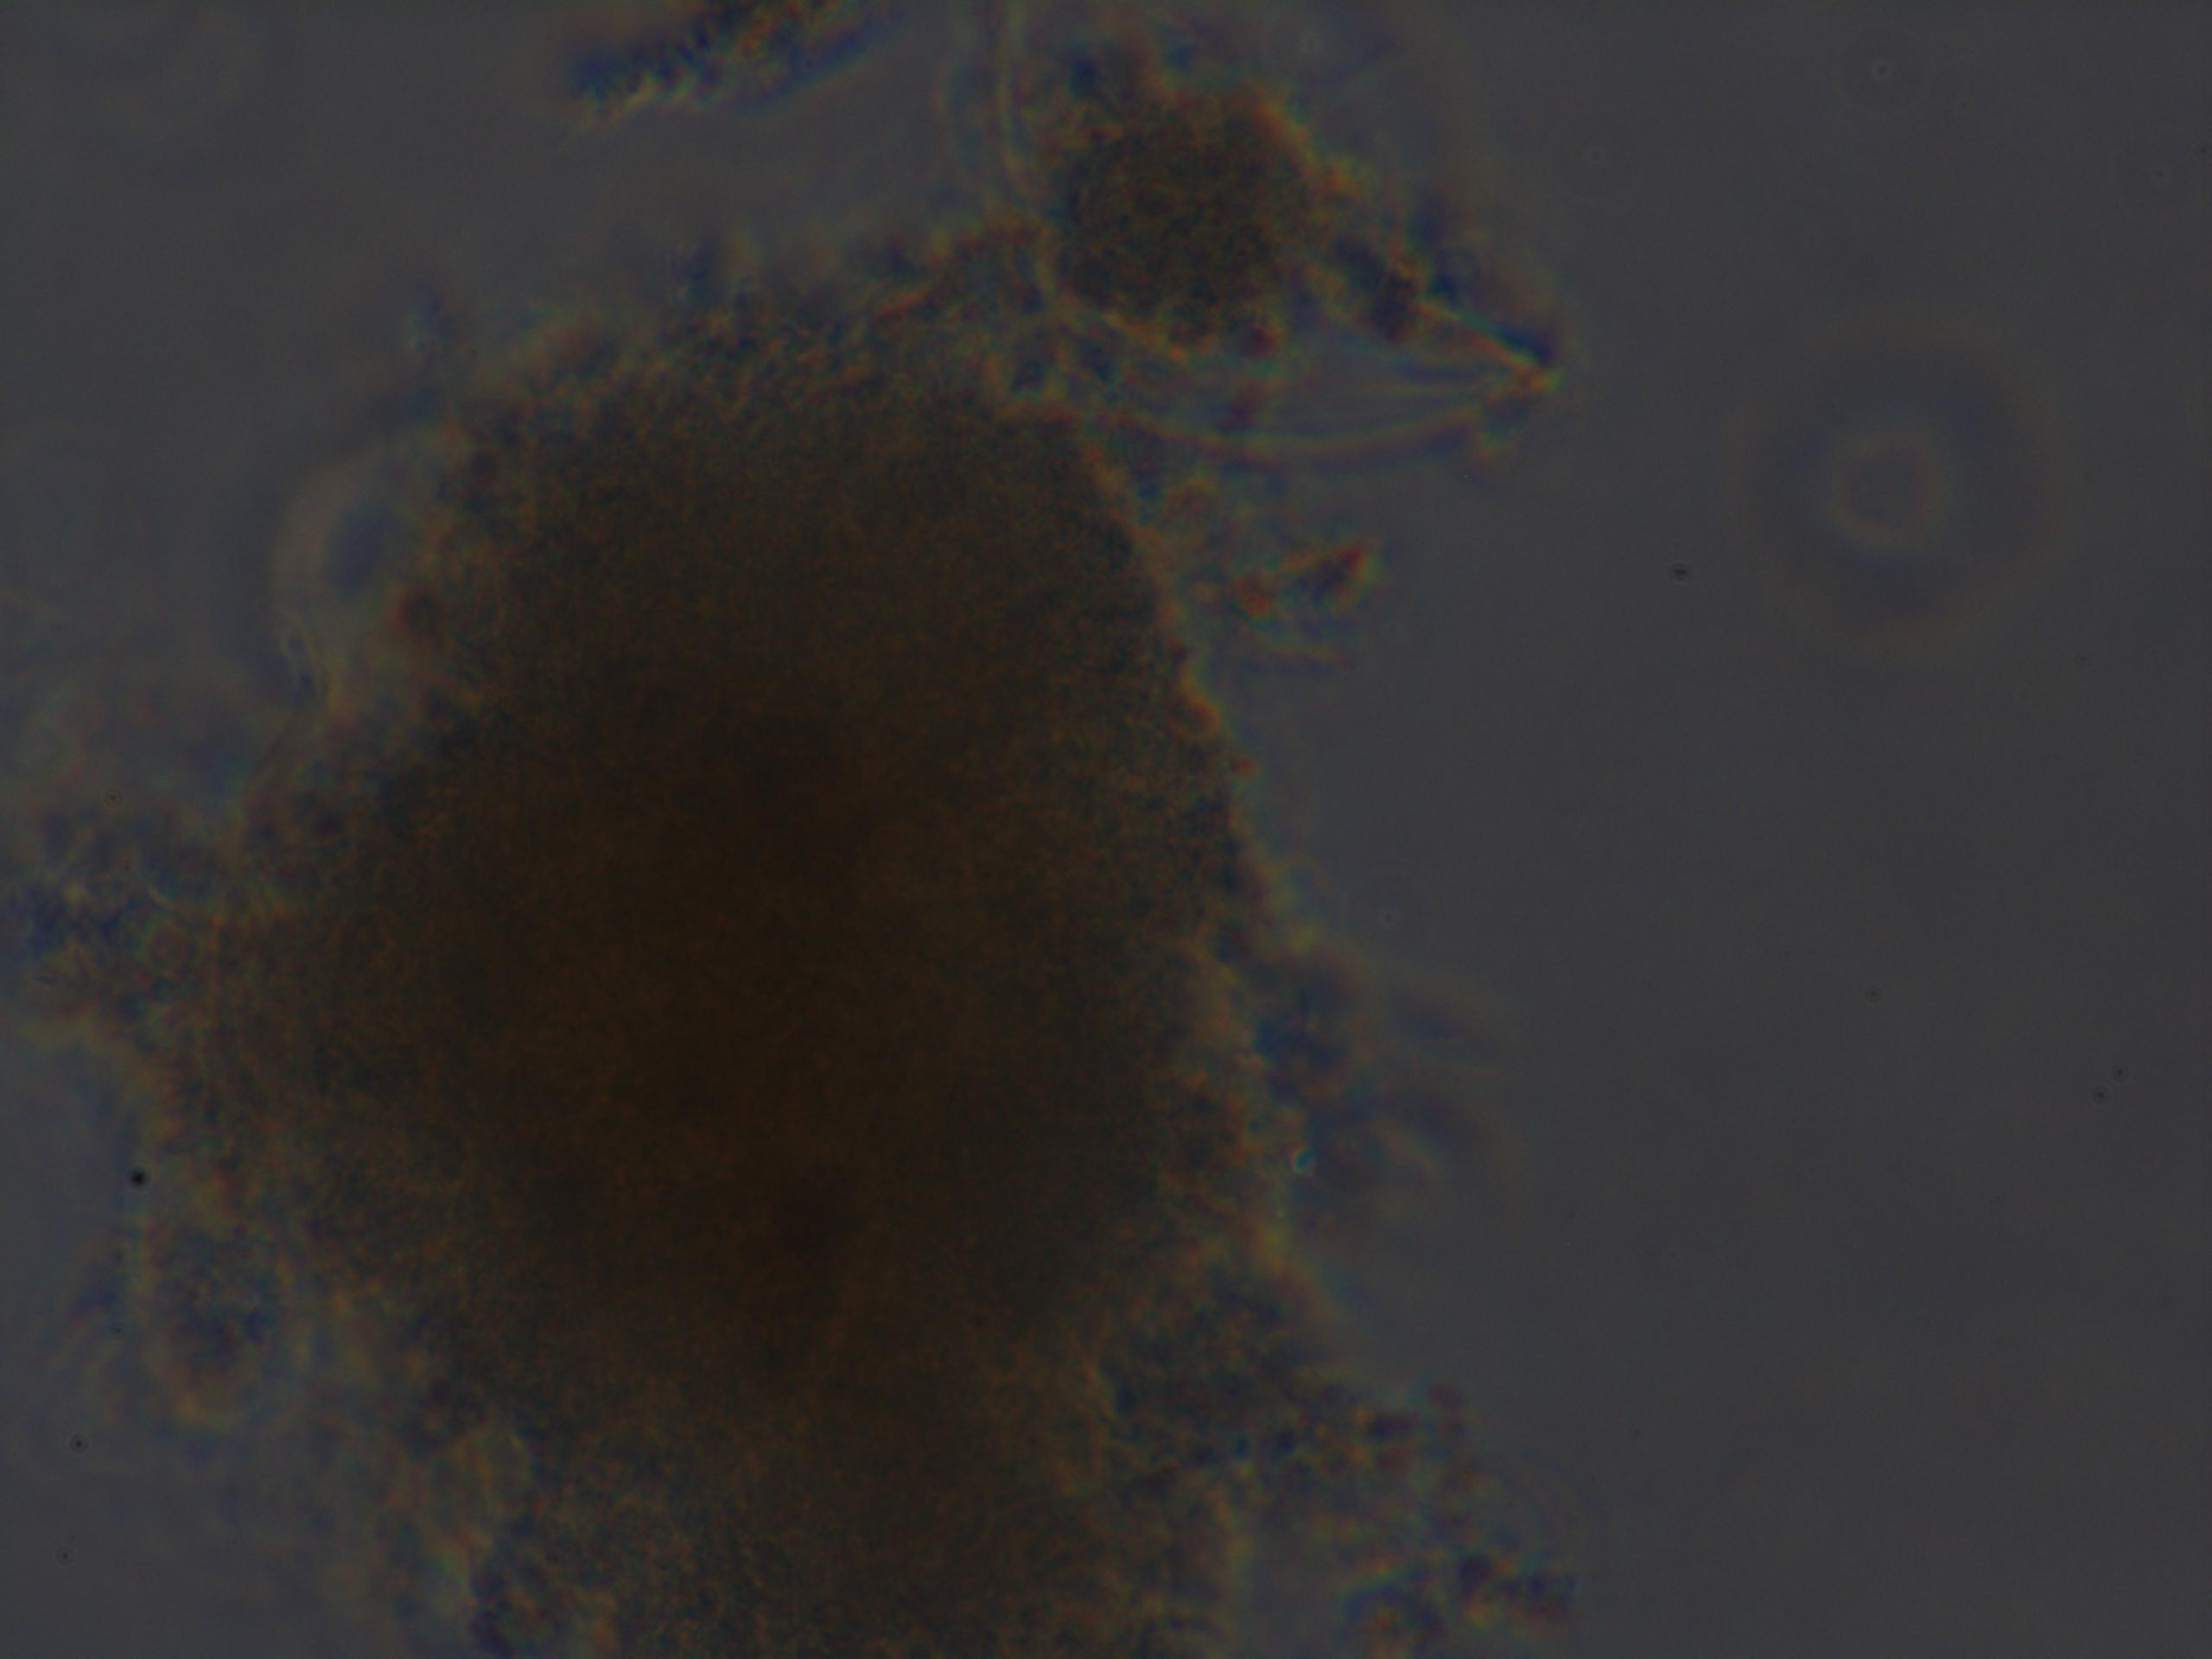filament: (1080, 383, 1575, 474)
